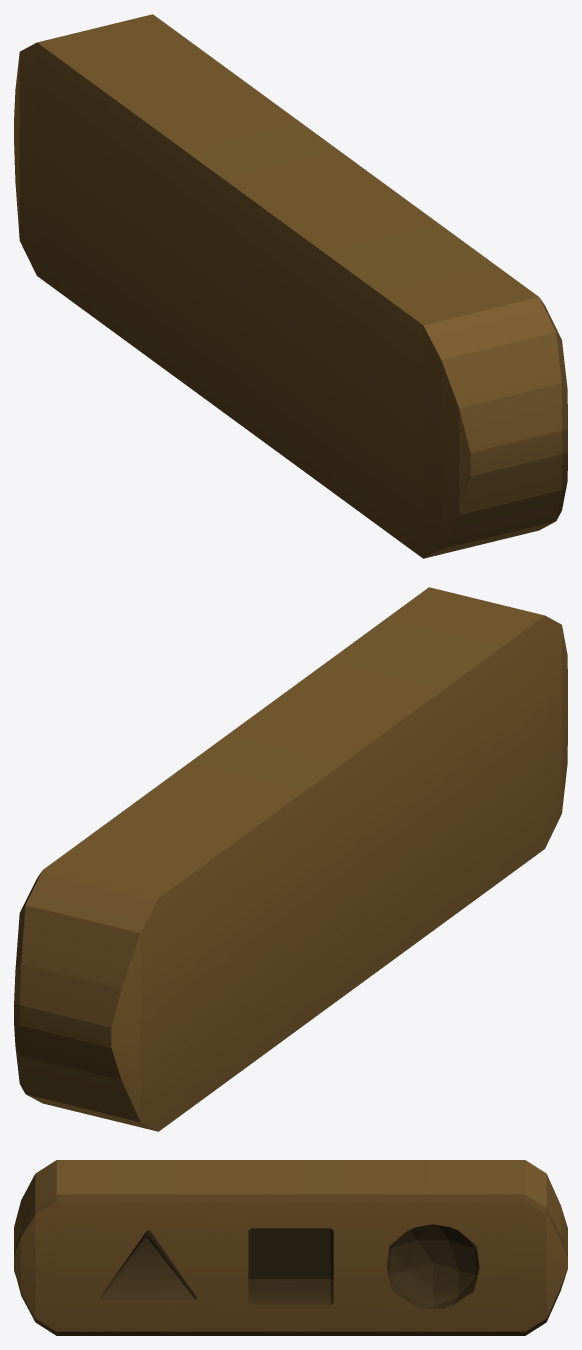
File: platon_fish_support.glb
3 renders of one model, top to bottom at view 1: azimuth 30°, elevation 25°; view 2: azimuth 150°, elevation 25°; view 3: azimuth 270°, elevation 25°, orthographic. The views are drawn at different scales.
Parts seen in each view (by area): view 1: Cube.231; view 2: Cube.231; view 3: Cube.231.
Part boxes in pixels (x1,y1,x2,y2): Cube.231: [14, 14, 567, 558]; Cube.231: [14, 587, 567, 1131]; Cube.231: [14, 1160, 567, 1335].
Size of the model in its own units: 1.2 by 2.2 by 7.8.
Materials: 1 (1 with a texture image).
